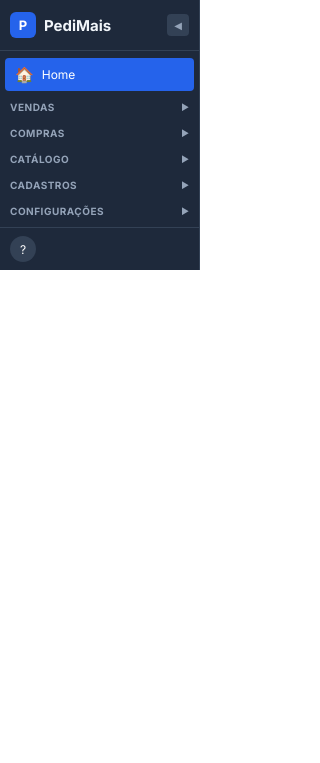
Test: AppSidebar › toggles collapsed state, hiding the brand name and nav labels
Step 1. Click the button with test id "collapse-toggle" → (178, 25), box [167,14,189,36]
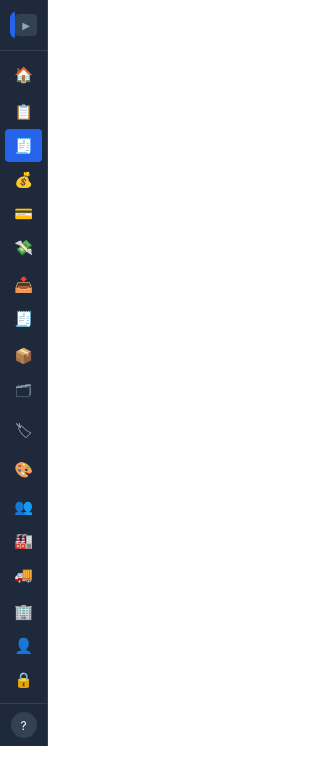
Result: the text "PediMais" is gone
Result: the text "Home" is gone
